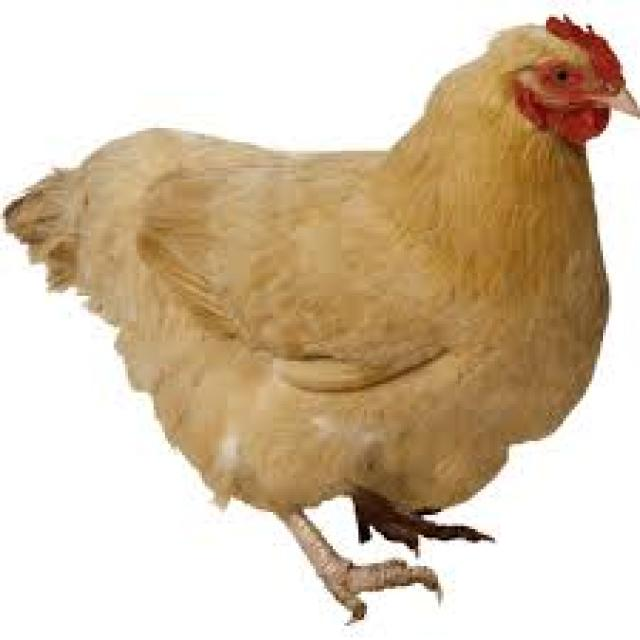Chicken: (22, 11, 632, 634)
